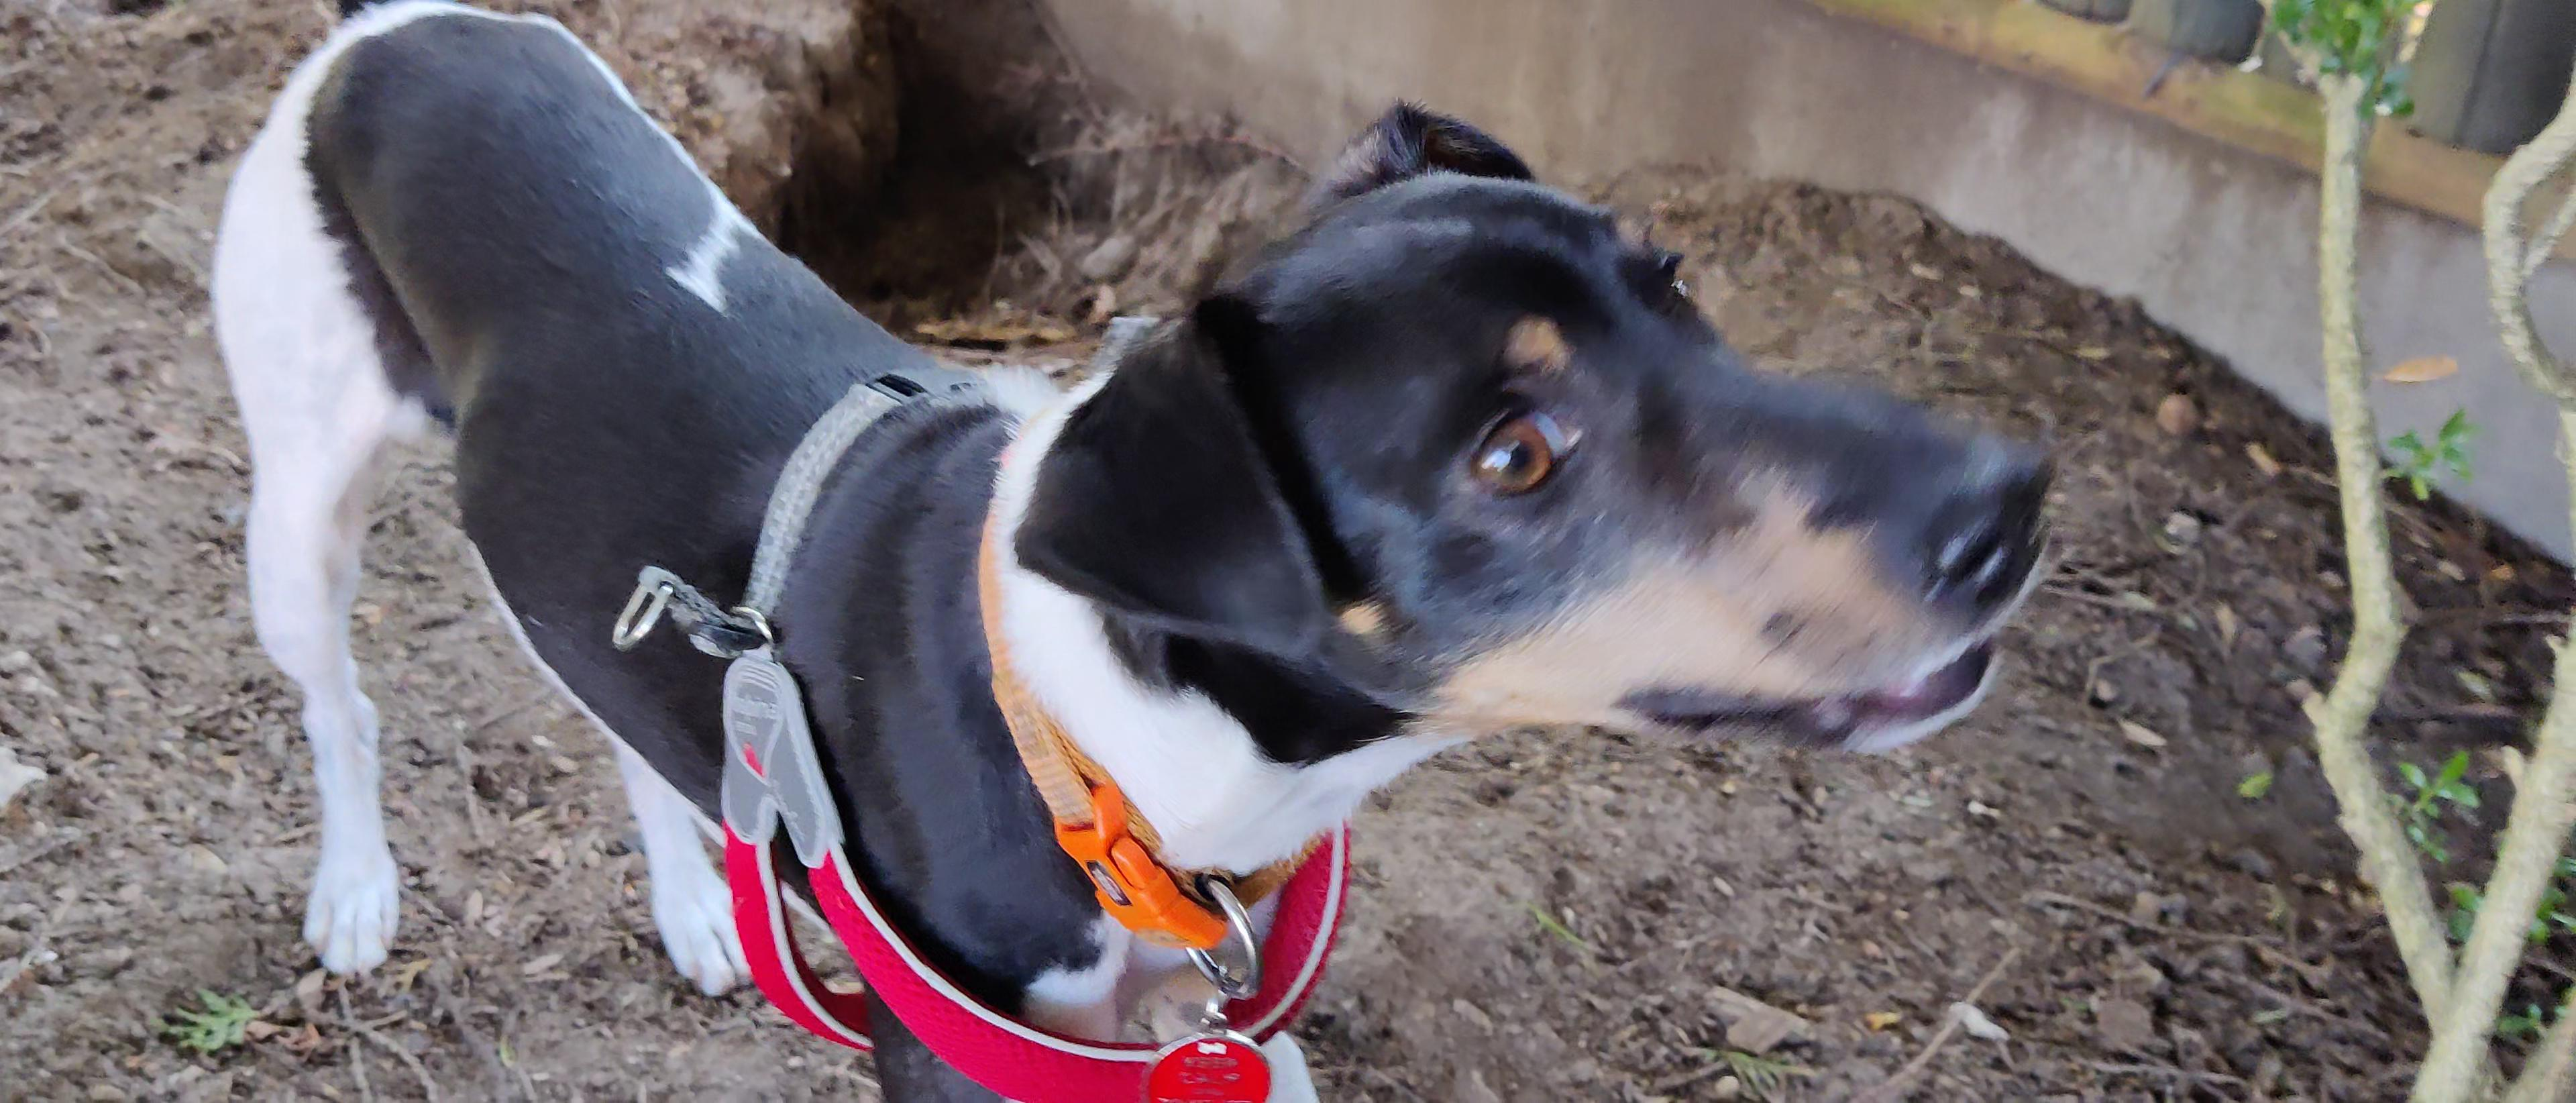Dog: (163, 0, 2090, 1103)
